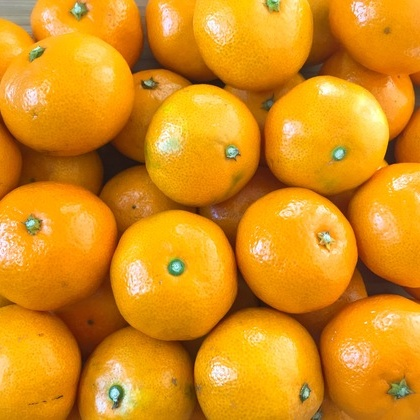mandarin: (107, 209, 238, 341), (1, 34, 133, 155), (236, 187, 358, 317), (190, 307, 327, 420), (265, 75, 391, 196), (1, 181, 118, 310), (146, 84, 262, 207), (323, 293, 420, 419), (77, 322, 194, 420), (190, 1, 313, 91), (1, 304, 83, 420), (346, 162, 420, 289), (319, 48, 415, 140), (111, 69, 197, 161), (97, 163, 199, 237), (31, 1, 144, 65), (327, 1, 419, 78), (144, 1, 206, 82), (22, 143, 103, 193), (397, 107, 420, 166)
